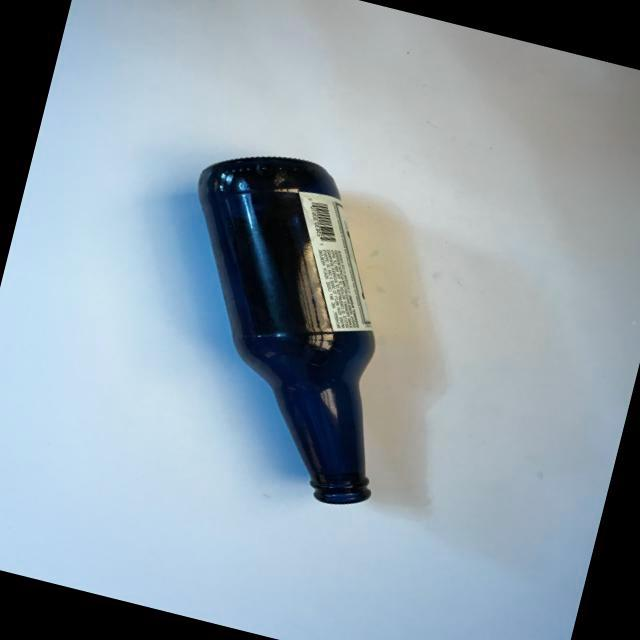glass: (111, 114, 464, 528)
